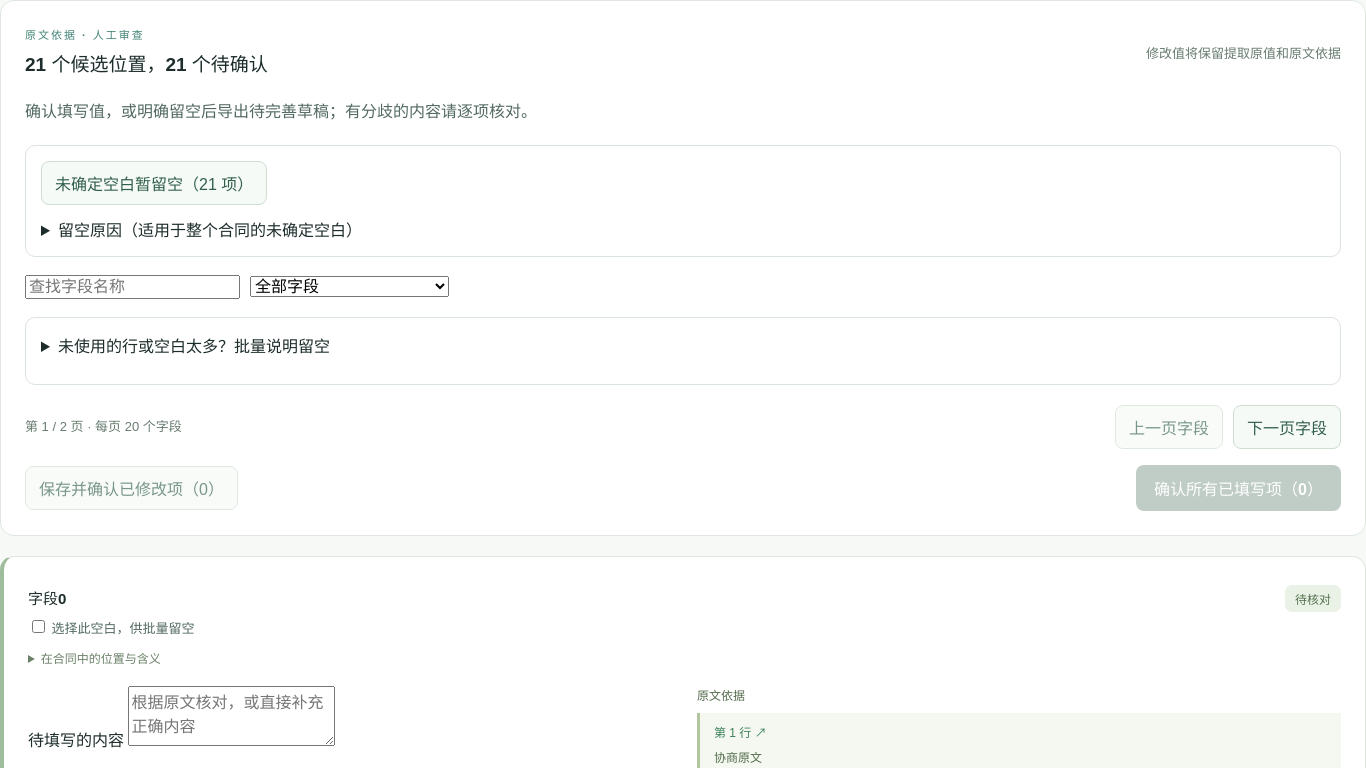
Test: field review › keeps unsaved values when paging through a large template
Type "第一页待保存的值" into the text box labelled "待填写的内容" at (232, 716), box [128, 686, 336, 746]
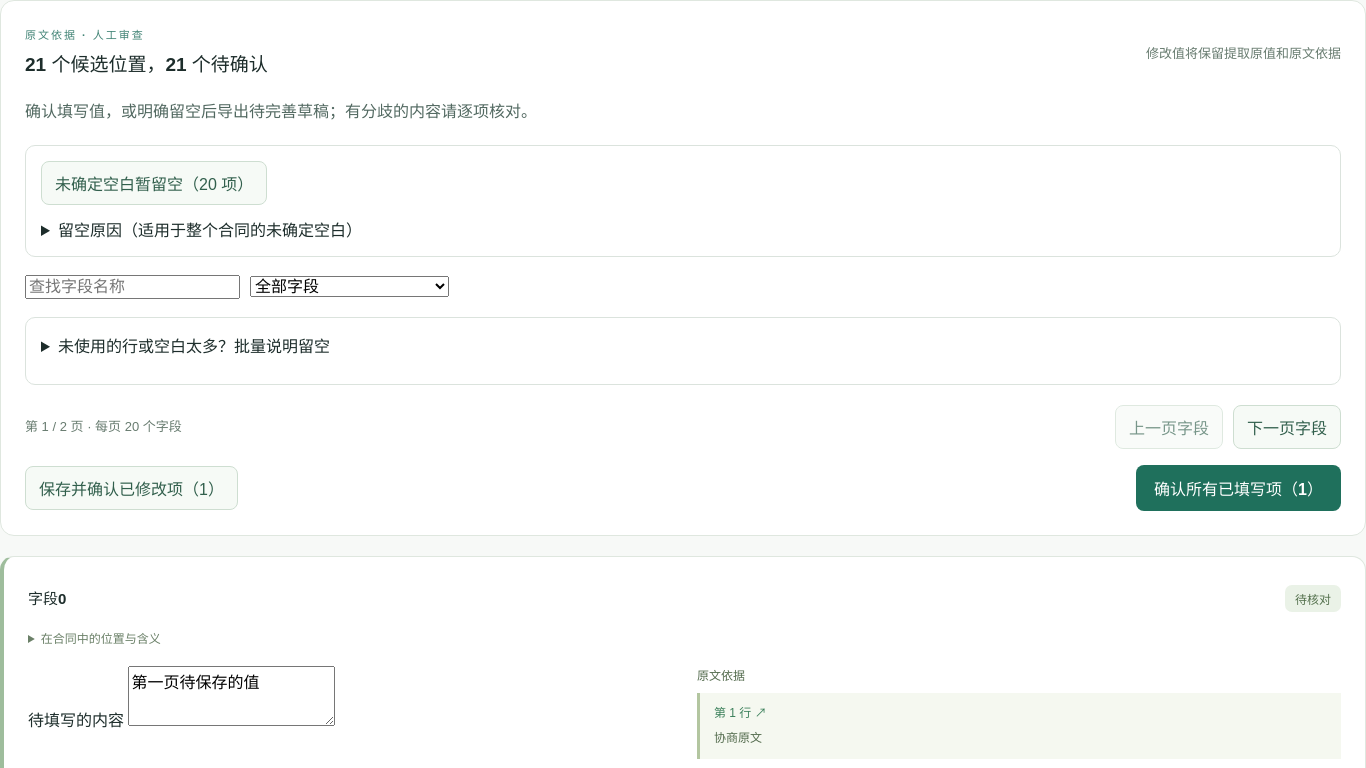
Click the button "下一页字段" at (1287, 427), box [1233, 405, 1341, 449]
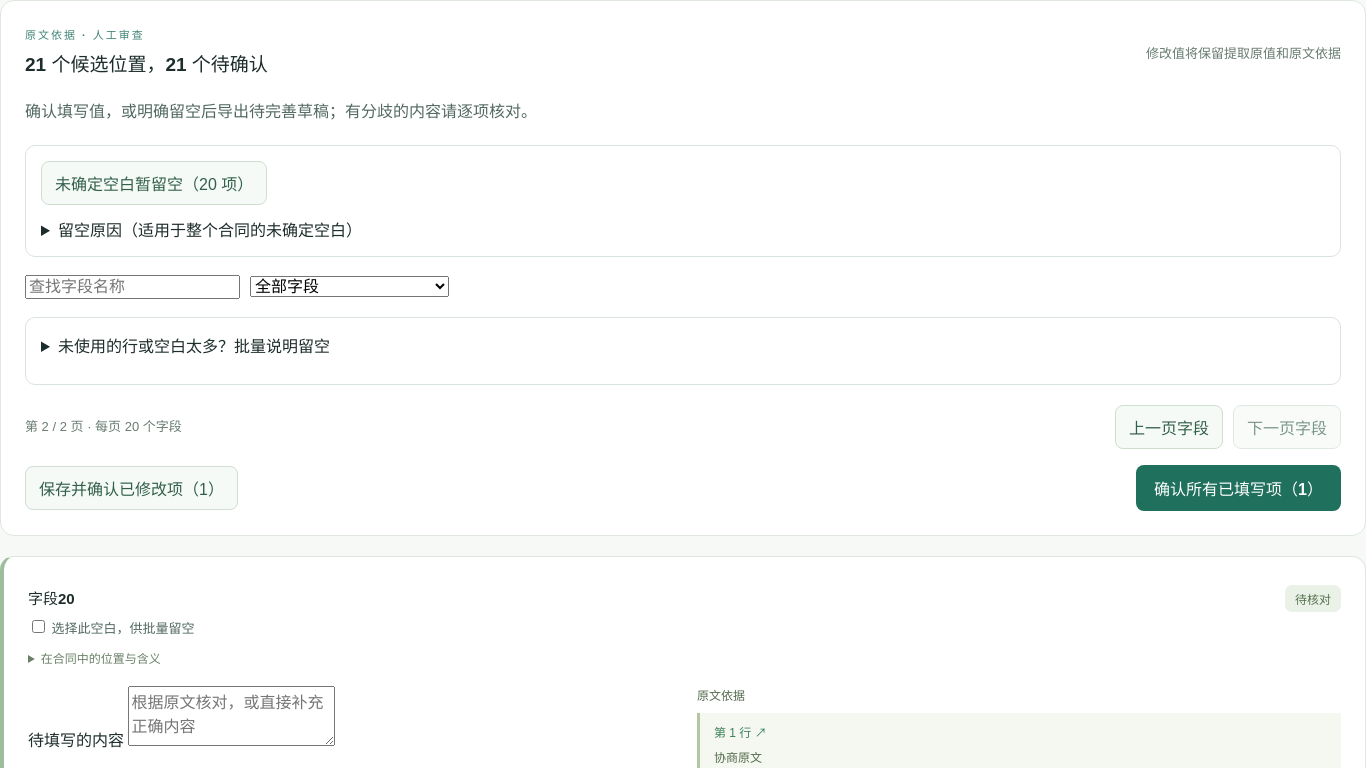
Type "第二页待保存的值" into the text box labelled "待填写的内容" at (232, 716), box [128, 686, 336, 746]
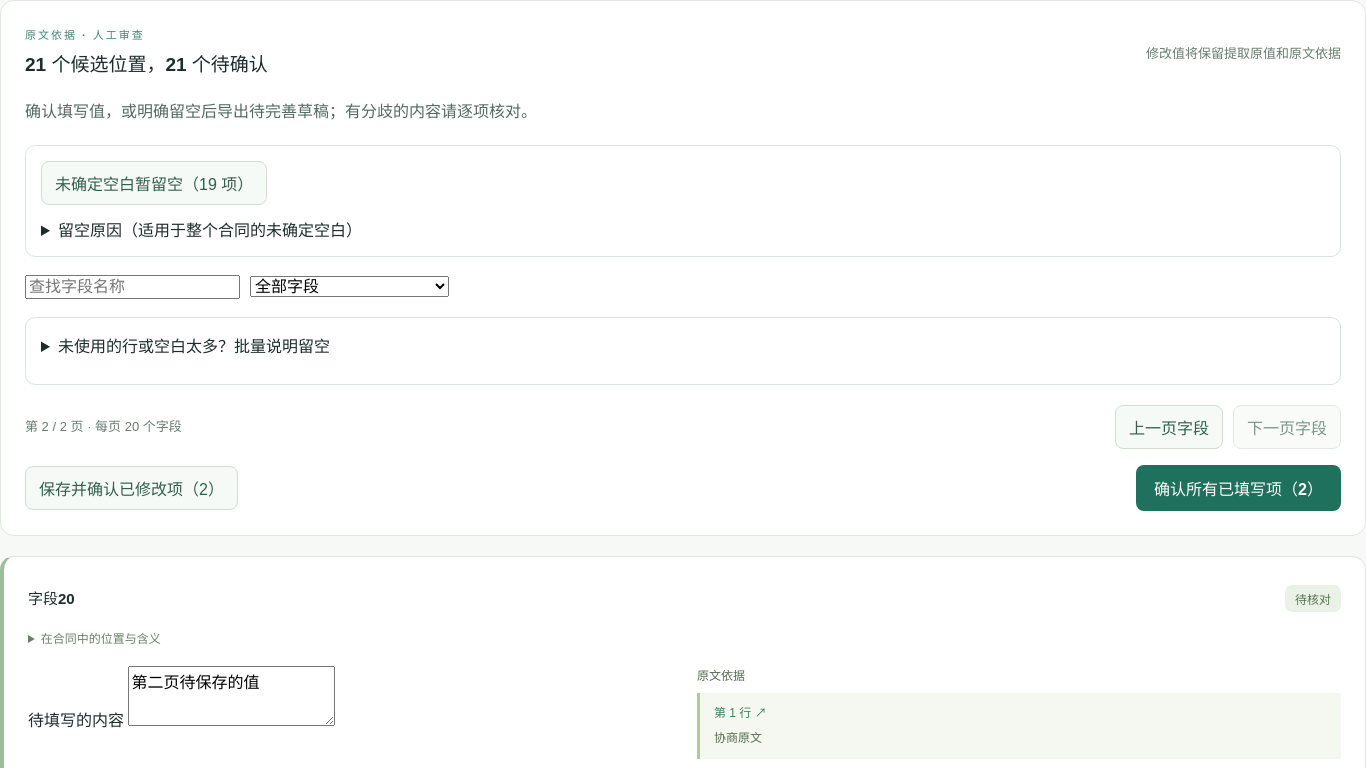
Click the button "上一页字段" at (1169, 427), box [1115, 405, 1223, 449]
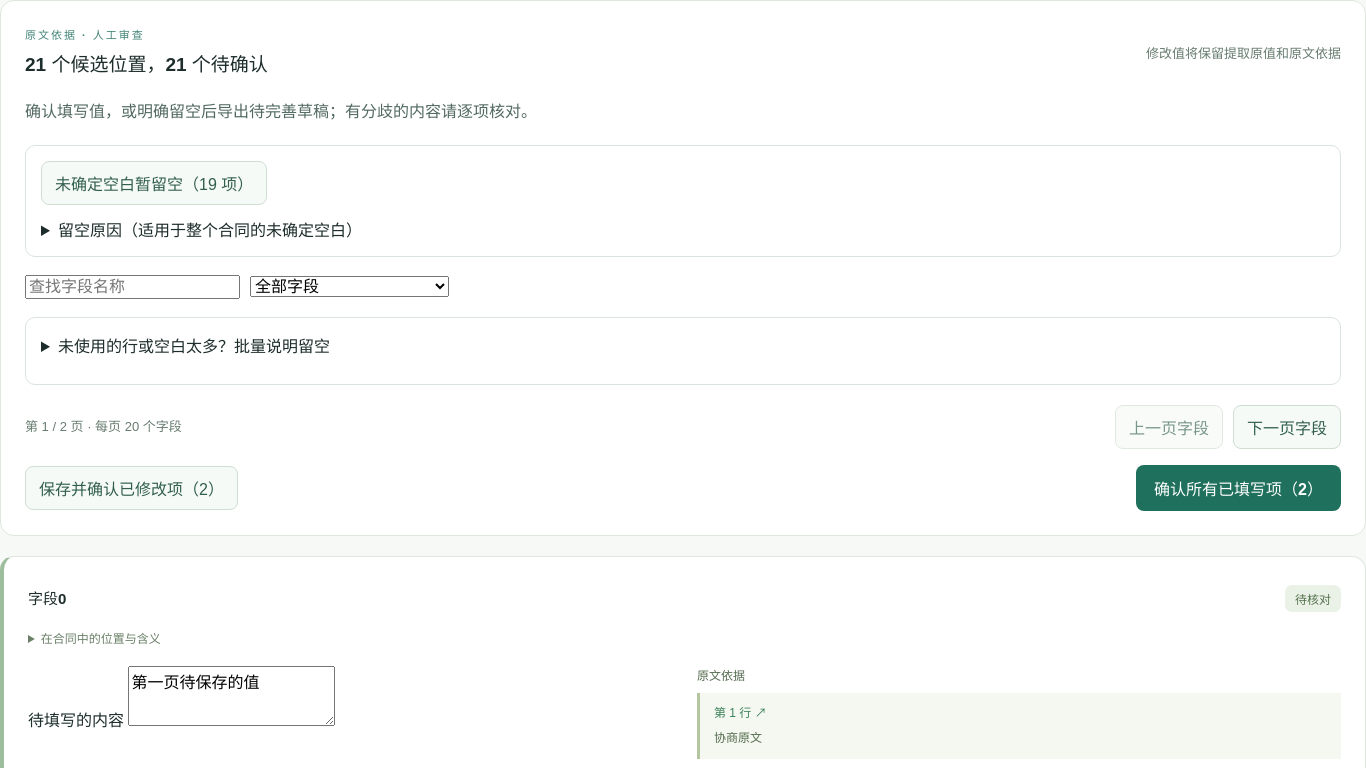
Expected: the text box labelled "待填写的内容" holds "第一页待保存的值", [128, 666, 336, 726]
